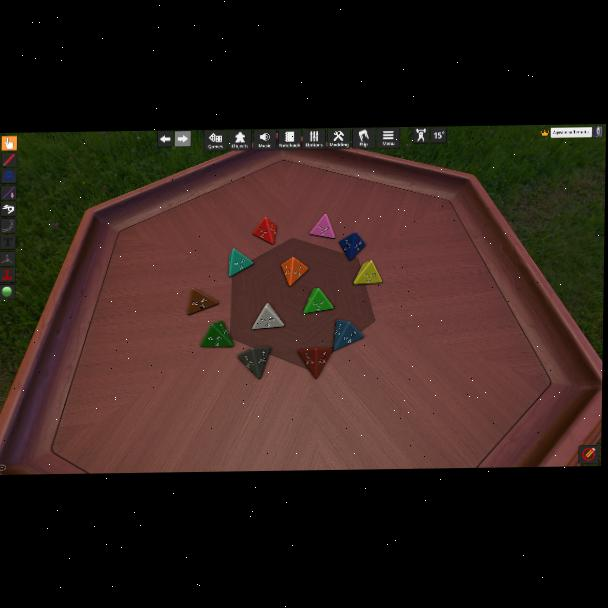d4: (236, 346, 271, 380), (299, 349, 330, 380), (332, 320, 362, 350), (187, 288, 218, 316), (200, 321, 232, 348), (251, 304, 283, 330), (339, 232, 366, 262), (227, 249, 253, 278), (280, 257, 306, 286), (304, 288, 333, 313), (353, 260, 381, 285), (252, 217, 277, 245), (309, 215, 334, 240)
